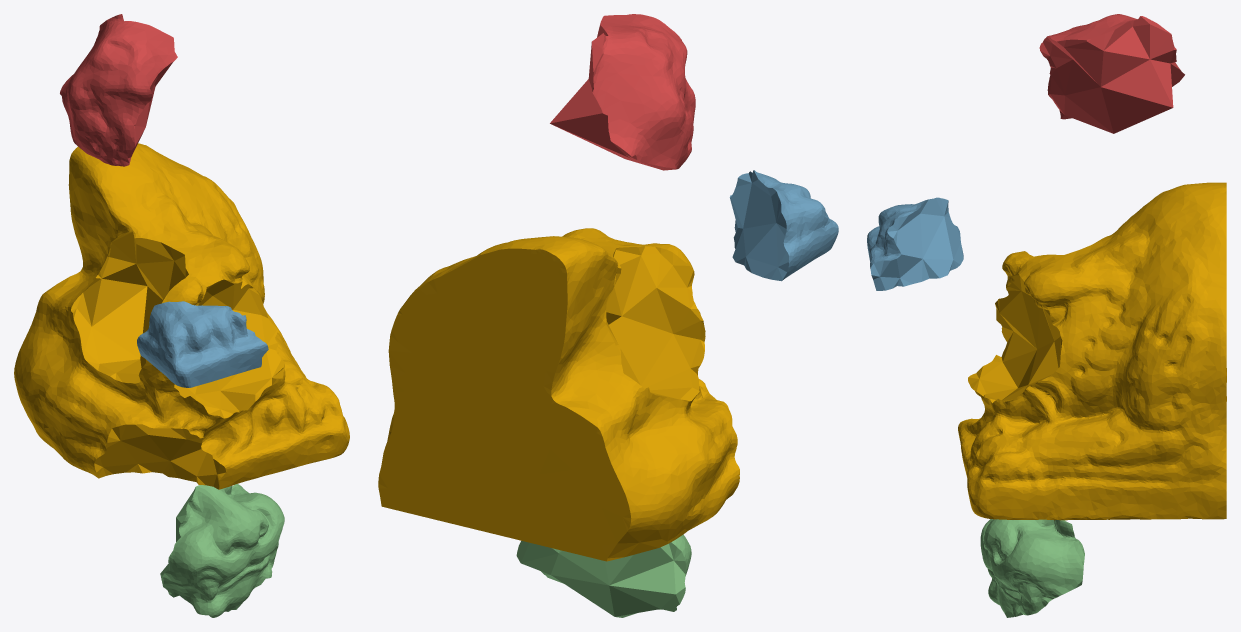
The model's file is fractured_35_4pcs_transformed.glb.
3 views of the same model, side by side, from view 1: azimuth 30°, elevation 25°; view 2: azimuth 150°, elevation 25°; view 3: azimuth 270°, elevation 25° (orthographic). The views are drawn at different scales.
Parts seen in each view (by area): view 1: piece_0.obj, piece_3.obj, piece_1.obj, piece_2.obj; view 2: piece_0.obj, piece_1.obj, piece_2.obj, piece_3.obj; view 3: piece_0.obj, piece_1.obj, piece_3.obj, piece_2.obj.
Part boxes in pixels (box(x1,y1,x2,y2)): piece_0.obj: box(14, 143, 349, 489); piece_3.obj: box(160, 484, 284, 617); piece_1.obj: box(60, 14, 177, 166); piece_2.obj: box(137, 301, 268, 387); piece_0.obj: box(378, 228, 739, 561); piece_1.obj: box(550, 14, 695, 170); piece_2.obj: box(729, 170, 838, 281); piece_3.obj: box(516, 534, 691, 617); piece_0.obj: box(958, 182, 1226, 520); piece_1.obj: box(1039, 14, 1184, 133); piece_3.obj: box(980, 519, 1084, 617); piece_2.obj: box(867, 197, 963, 290).
Bounding box in the file's own units: 0.966 × 2.19 × 1.24.
